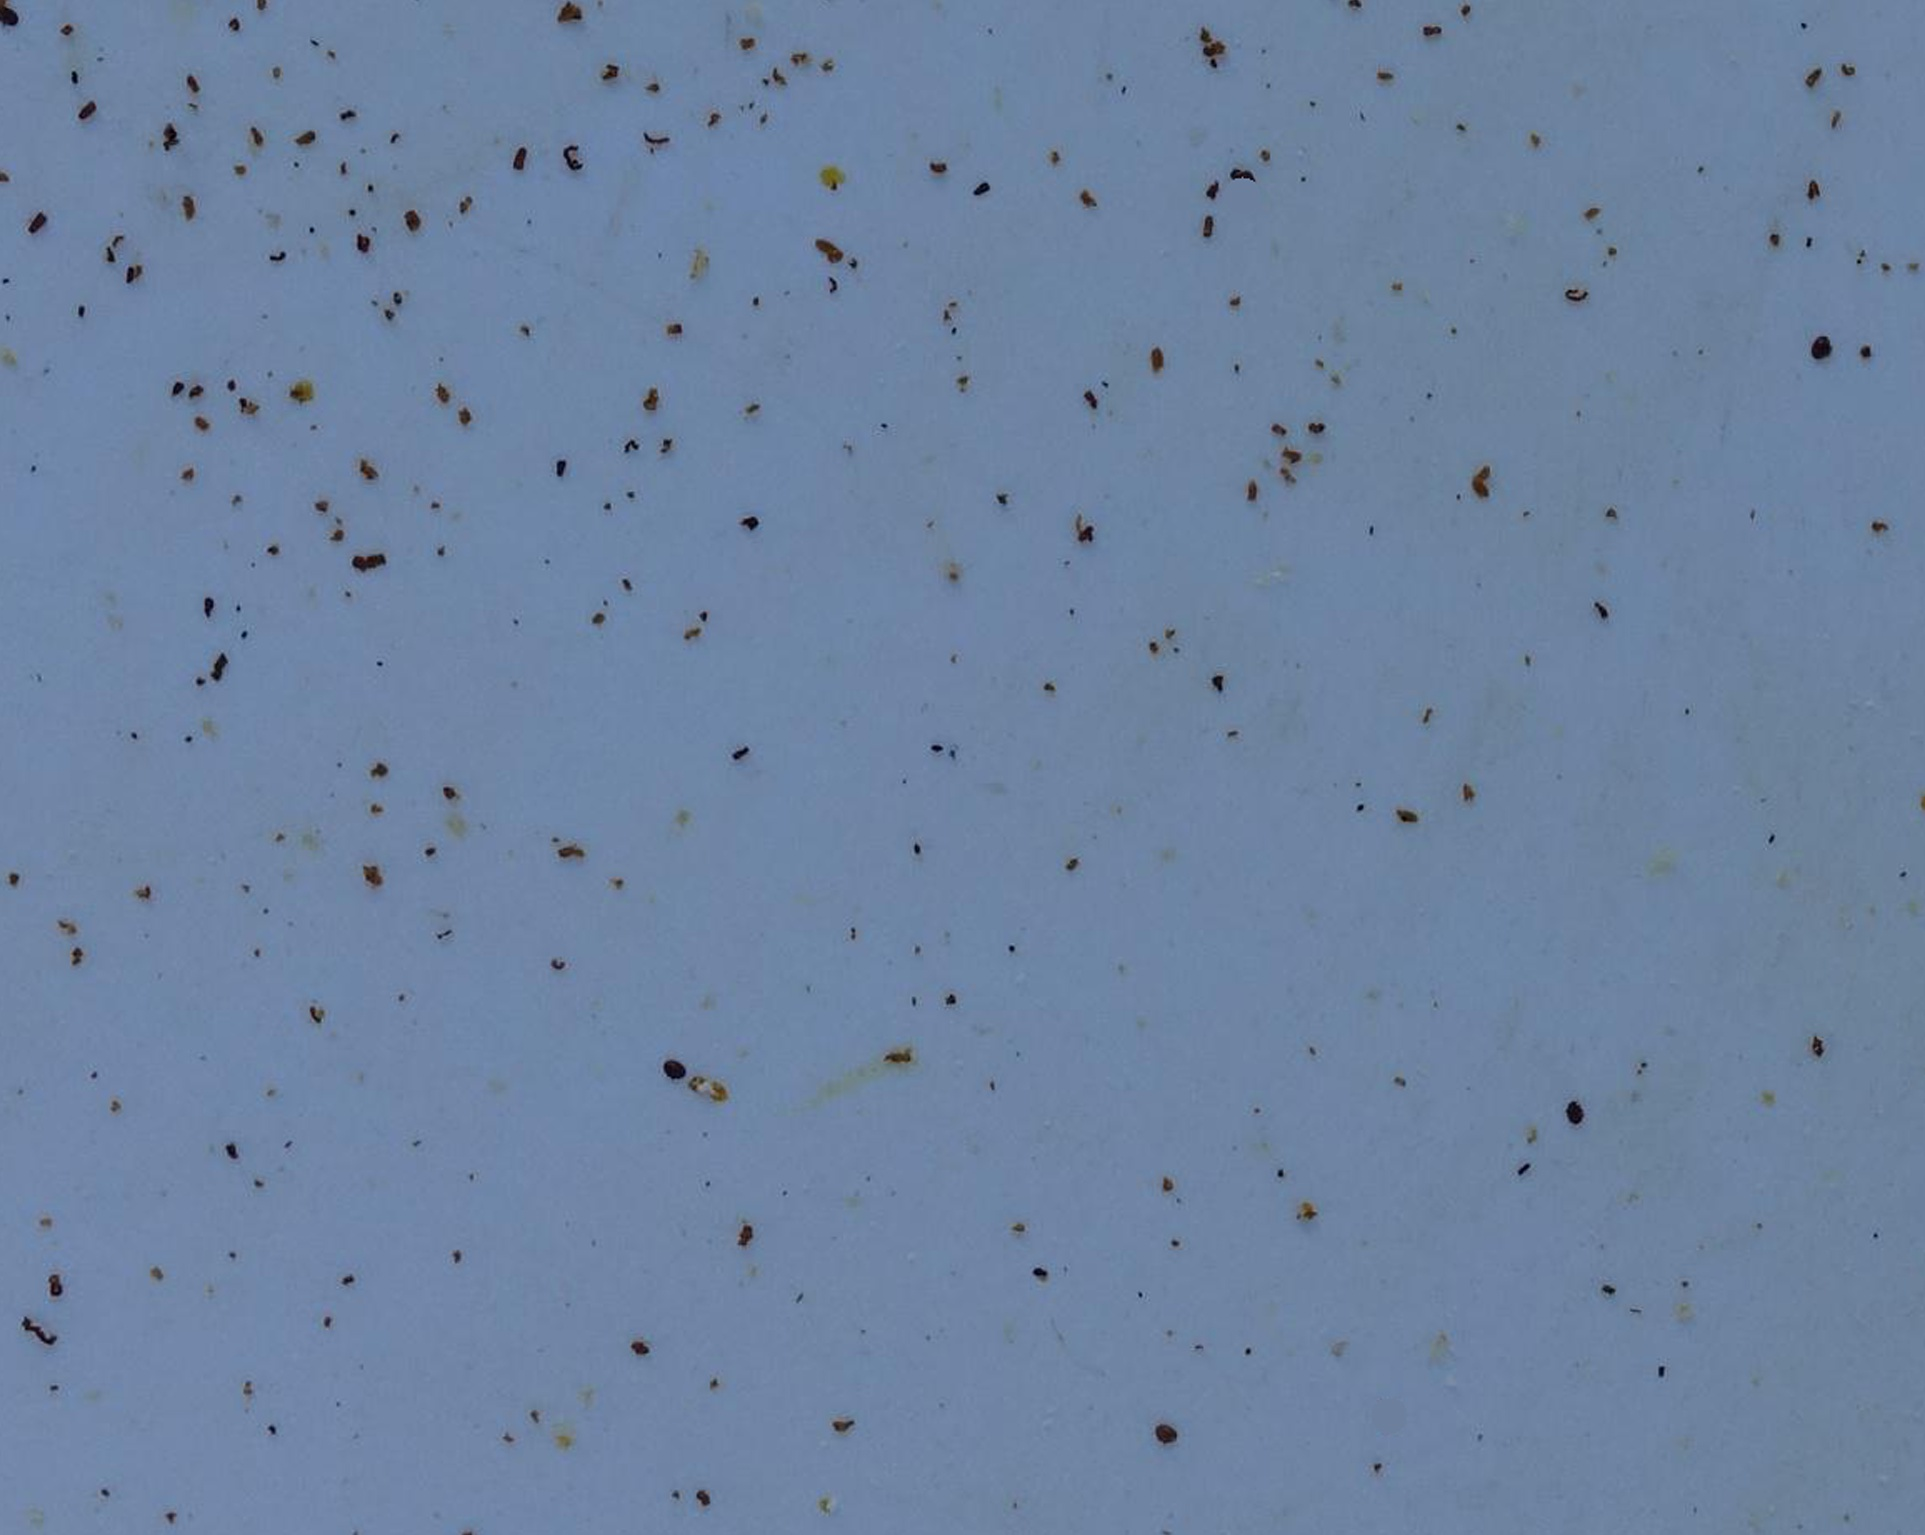Varroa: (1811, 334, 1847, 370), (1151, 1421, 1179, 1452), (664, 1057, 692, 1085), (1233, 164, 1261, 193), (1562, 1095, 1588, 1125)
